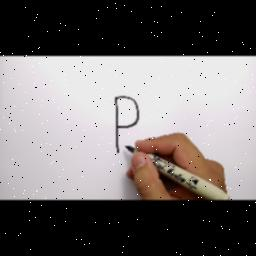p: (110, 88, 142, 158)
